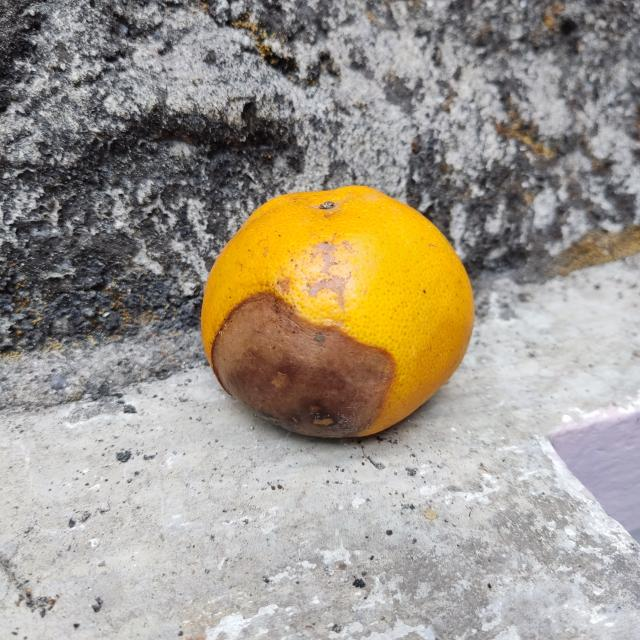orange: (196, 185, 476, 444)
